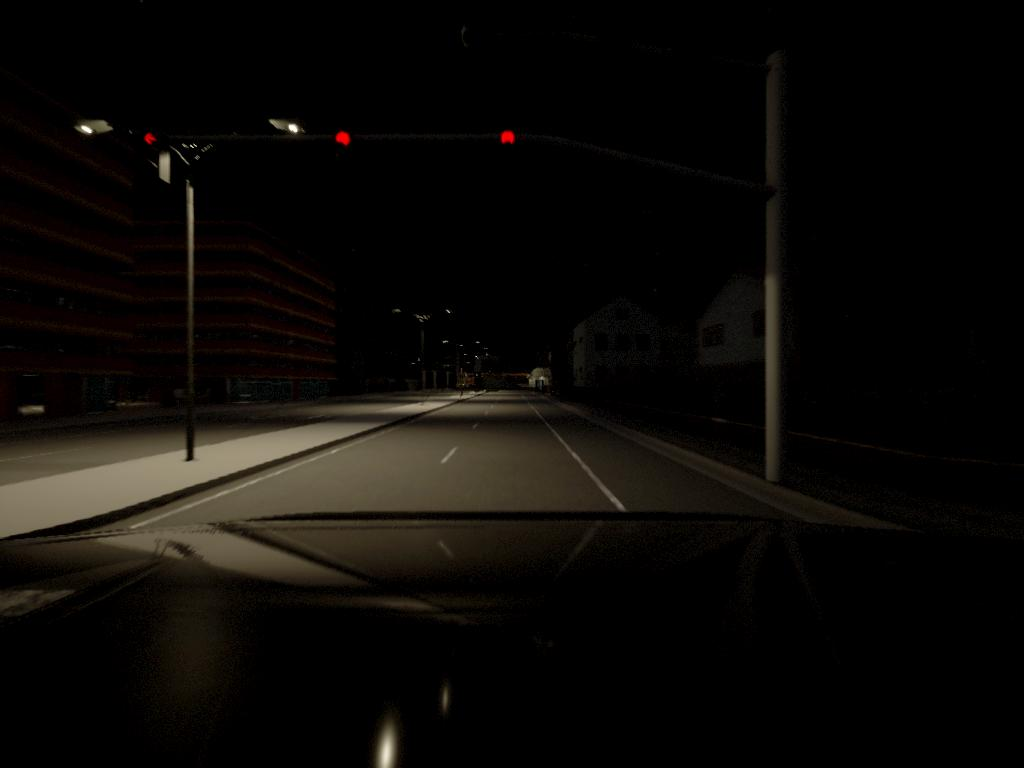traffic_light: (138, 131, 165, 181), (331, 130, 356, 165), (497, 130, 518, 165)
